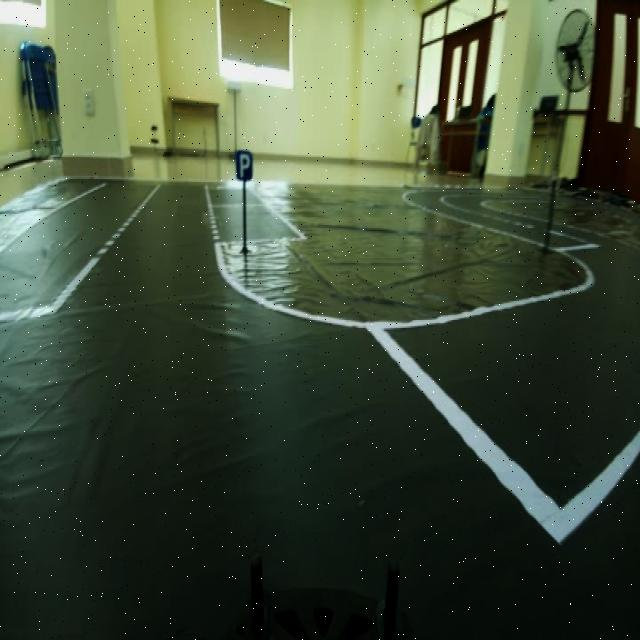parking: (230, 144, 260, 195)
